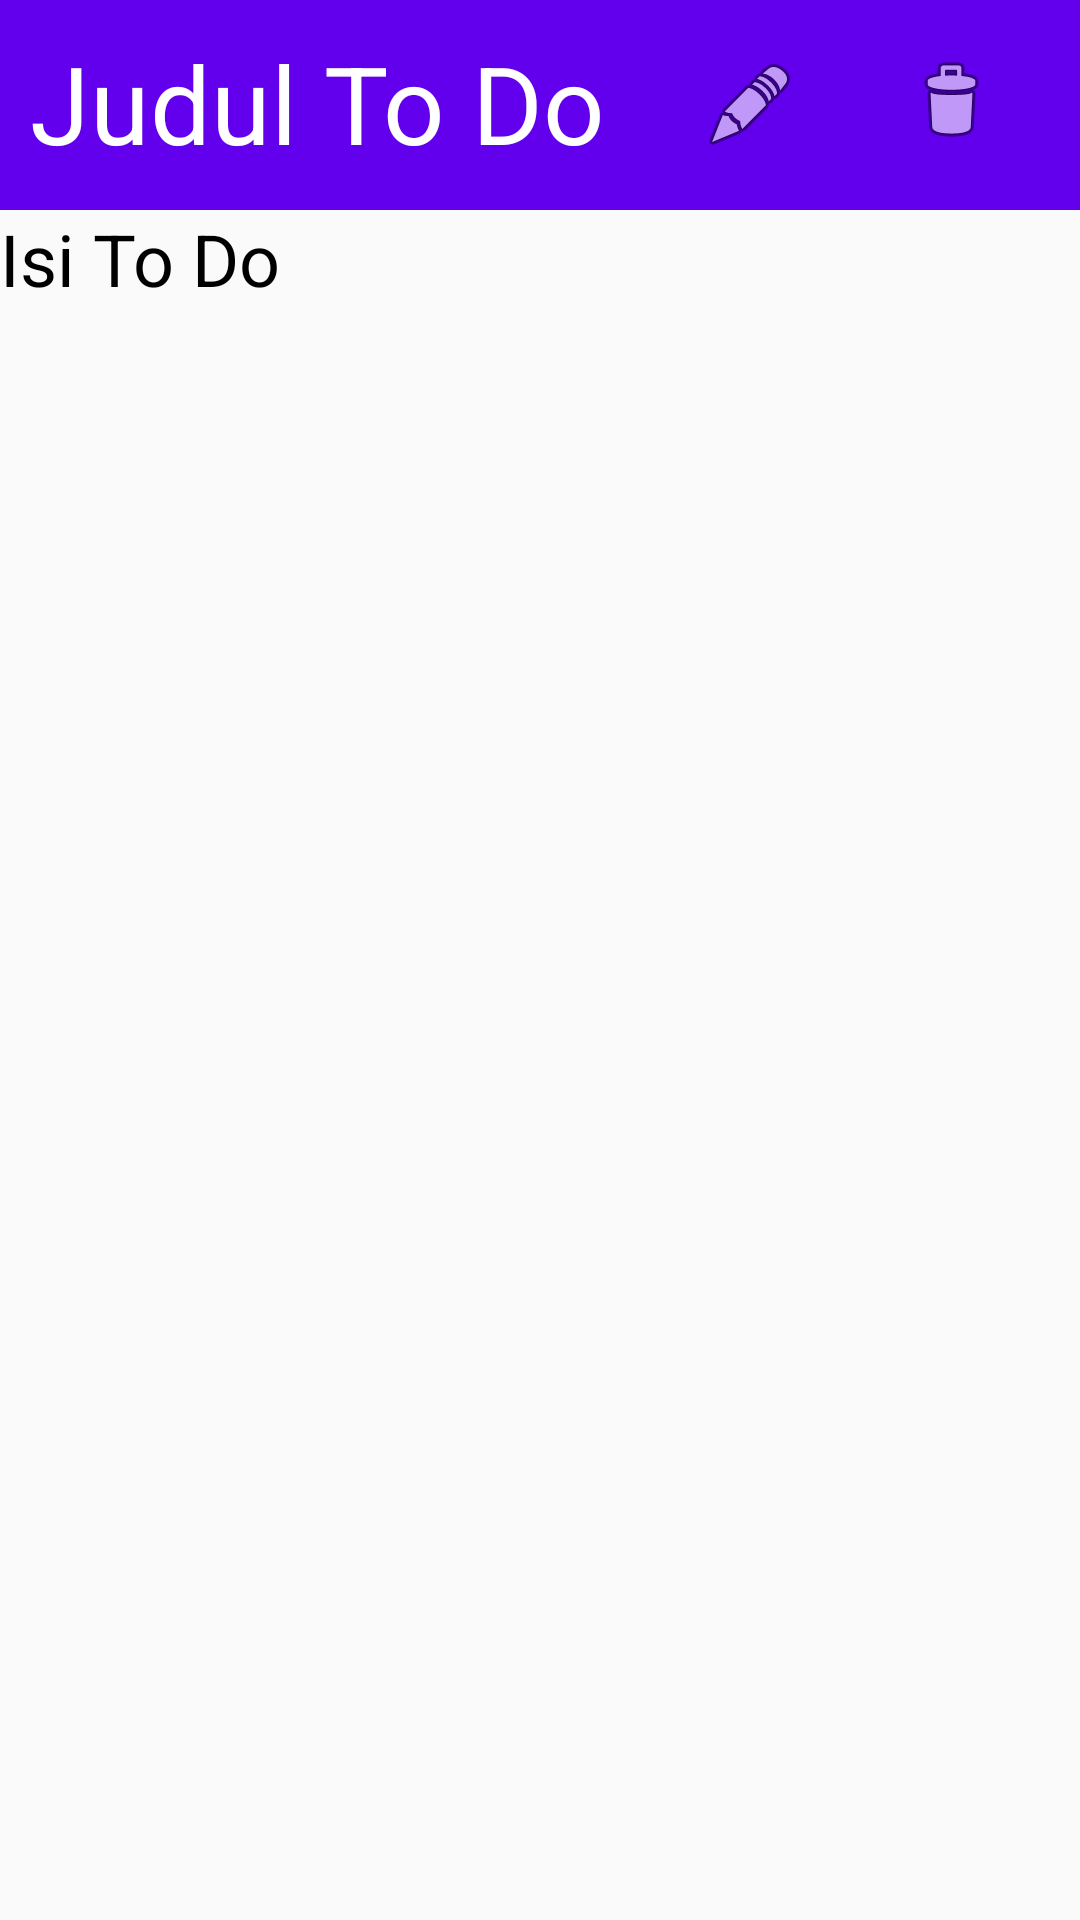

Icons on this 1080w x 1920h Android screen, each with its box as bbox=(x1, y1, x2, y2):
delete: bbox=(924, 62, 979, 137)
edit: bbox=(709, 64, 790, 145)
